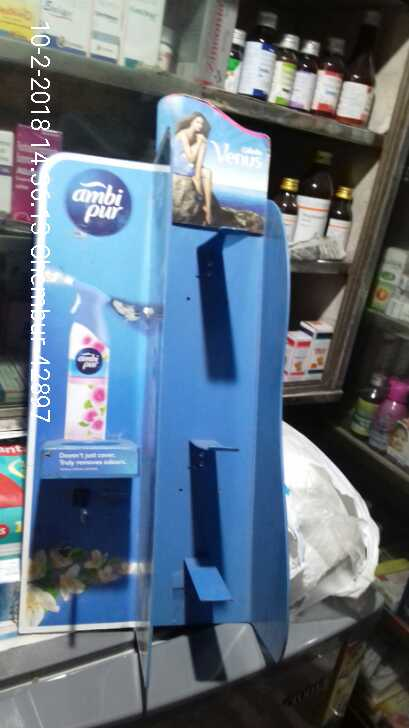reject: (95, 305, 181, 388)
